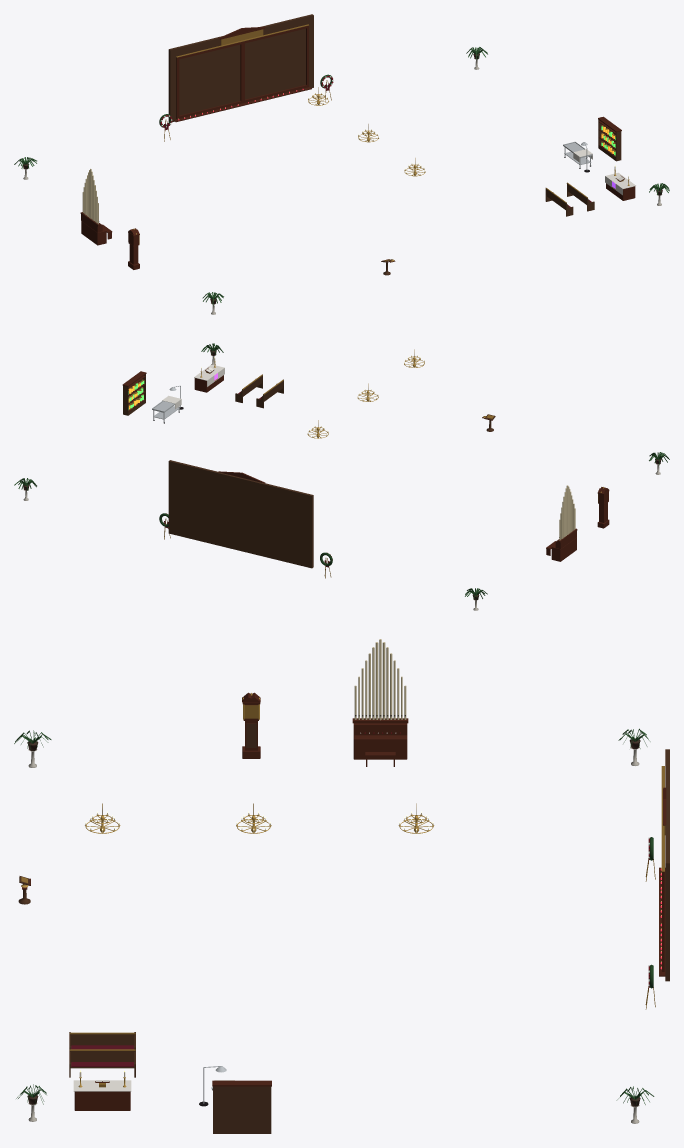
File: zh-props.glb
The picture shows the model from 3 angles, top to bottom: view 1: azimuth 30°, elevation 25°; view 2: azimuth 150°, elevation 25°; view 3: azimuth 270°, elevation 25°; orthographic projection. The views are drawn at different scales.
Parts seen in each view (by area): view 1: zh-props; view 2: zh-props; view 3: zh-props.
Boxes of the visible parts, <box> form: zh-props: <box>14,14,669,314</box>; zh-props: <box>14,343,669,610</box>; zh-props: <box>14,639,669,1133</box>.
Bounding box in the file's own units: 38.82 × 6.85 × 28.21.
